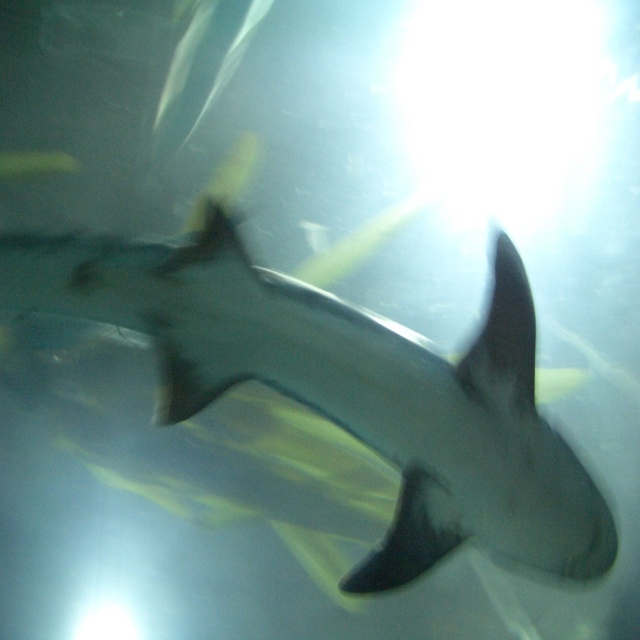Shark: (1, 199, 618, 598)
